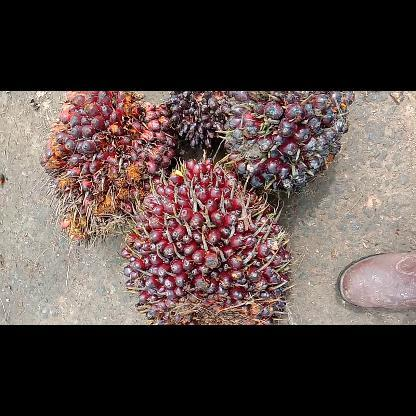Kurang masak: (120, 156, 294, 324), (220, 91, 350, 197)
TBS abnormal: (164, 90, 232, 152)
TBS masak: (42, 90, 178, 250)
